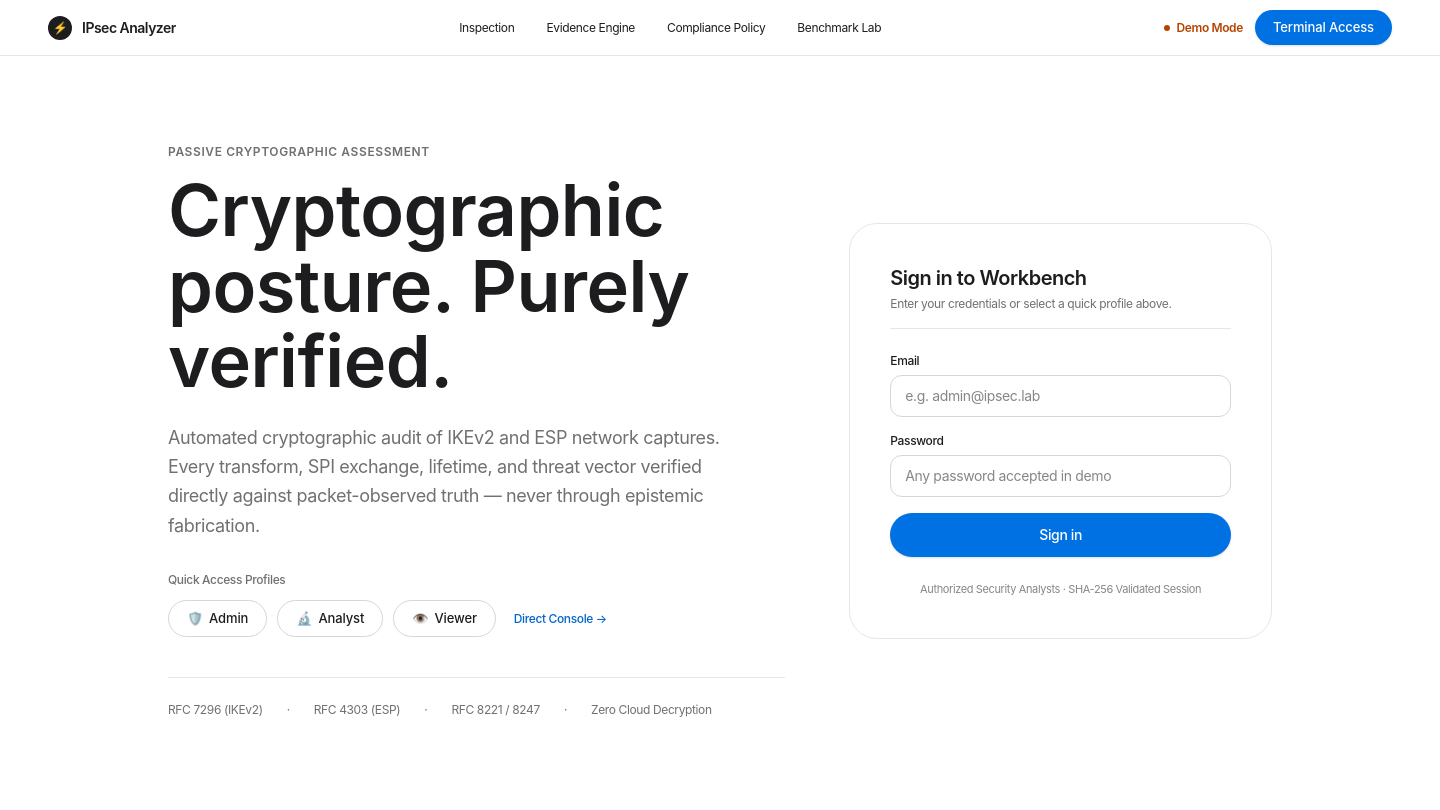
it: authentication › shows a generic message on 401 invalid credentials
Type "analyst@example.test" into the field labelled "Email". click: (1061, 396)
box: [890, 375, 1231, 417]
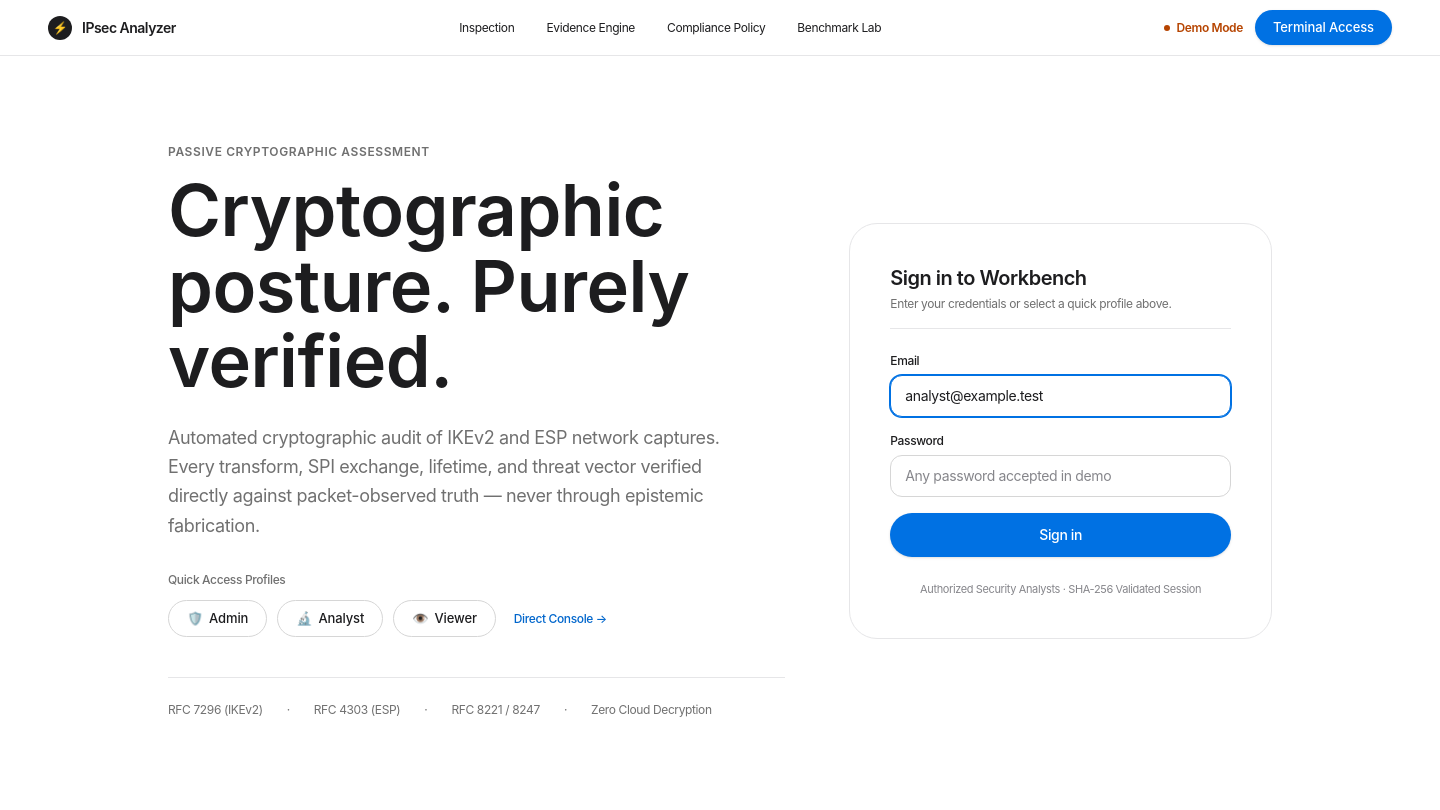
Type "wrong-password" into the password field labelled "Password". click: (1061, 476)
box: [890, 455, 1231, 497]
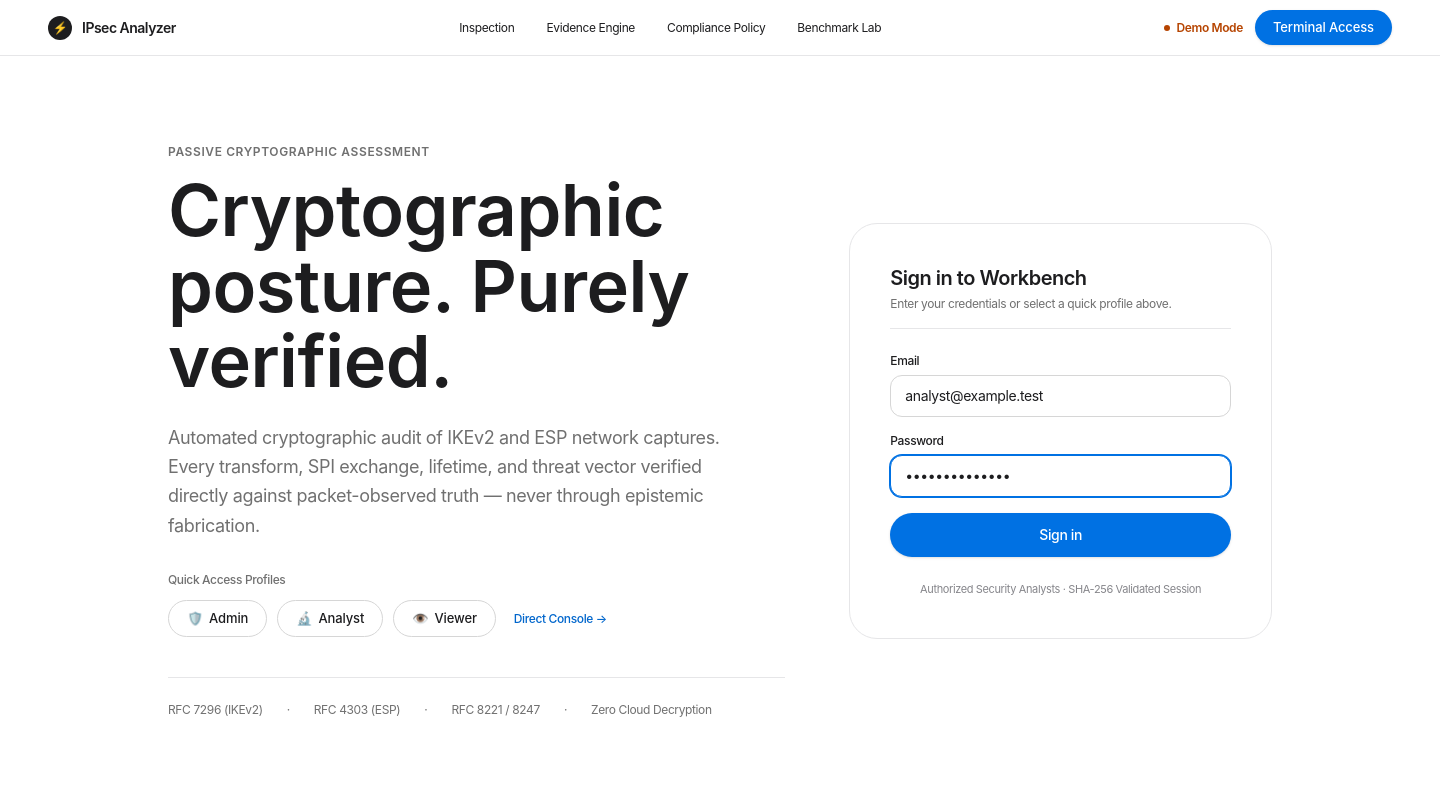
Click the button "Sign in". click: (1061, 535)
box: [890, 513, 1231, 557]
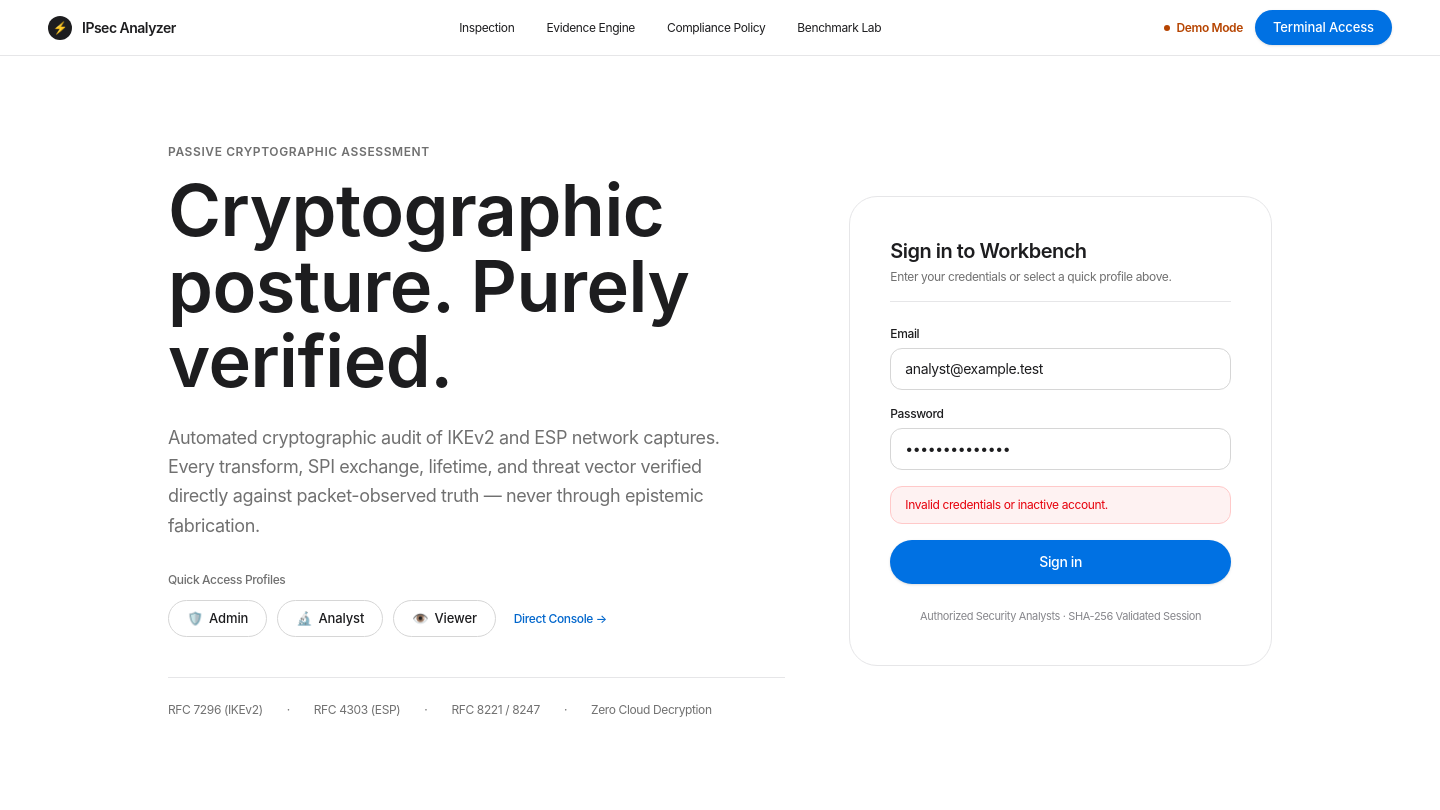
Expected: the message reads "Invalid credentials or inactive account.", [905, 497, 1108, 512]
